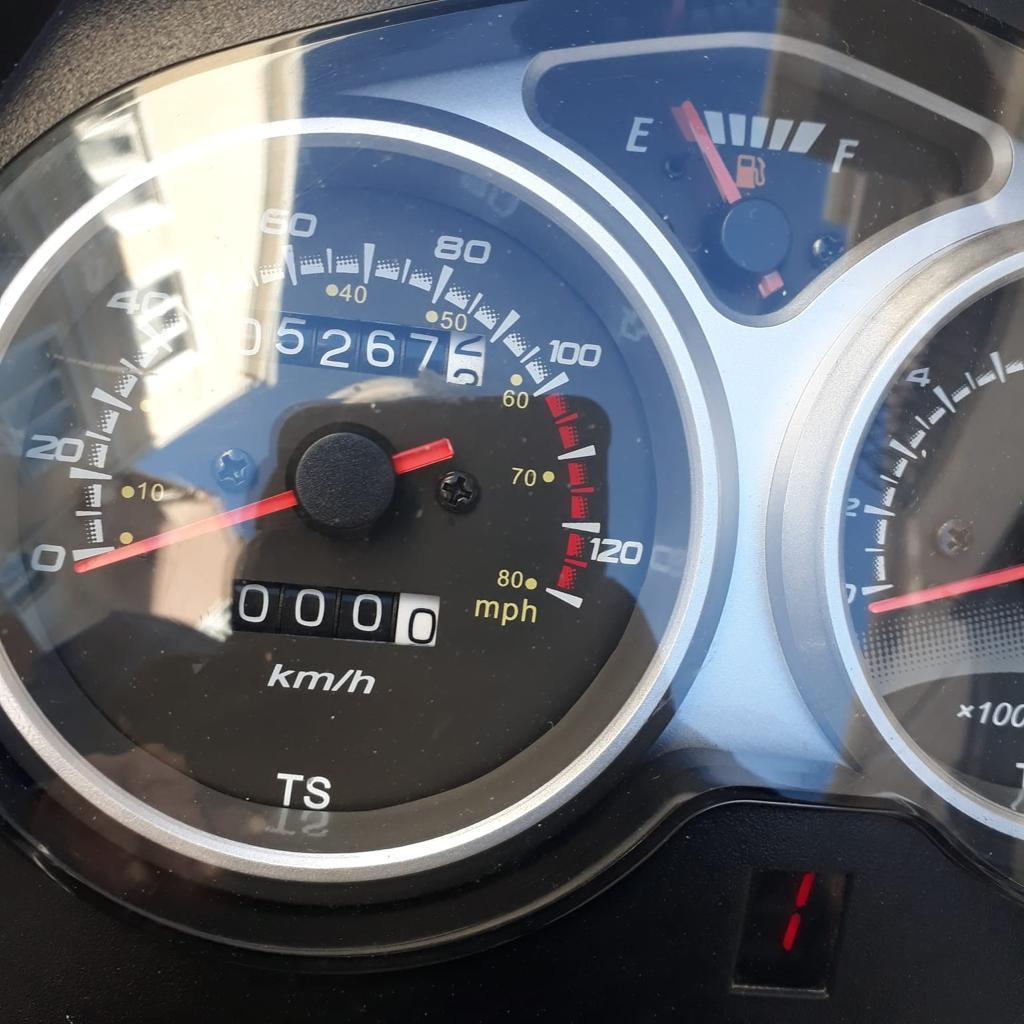0: (233, 316, 263, 356), (454, 312, 468, 330)
2: (319, 327, 352, 369), (453, 331, 483, 359)
3: (452, 366, 479, 387)
5: (274, 316, 307, 355), (440, 310, 453, 329)
6: (366, 328, 397, 368)
7: (408, 330, 439, 372)
odometer: (212, 309, 488, 391)
